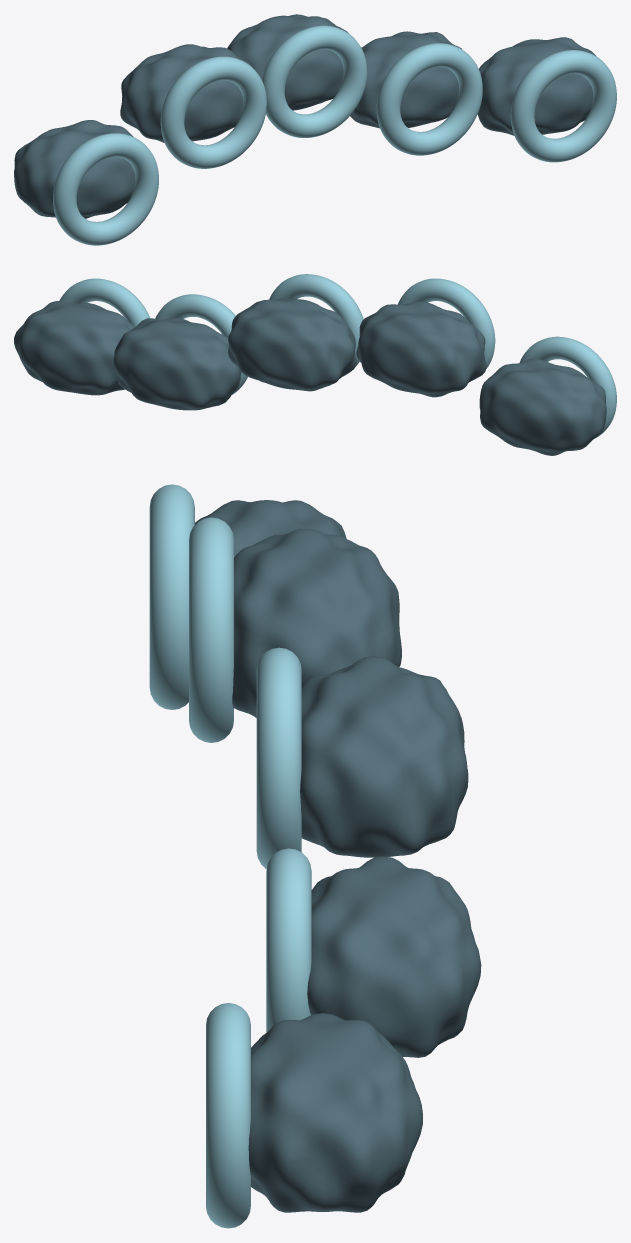
3 renders of one model, top to bottom at view 1: azimuth 30°, elevation 25°; view 2: azimuth 150°, elevation 25°; view 3: azimuth 270°, elevation 25°, orthographic. The views are drawn at different scales.
Visible parts, largest first — view 1: stepping-stone-1, stepping-stone-0, stepping-stone-4, socket-4, socket-3, socket-1, socket-0, socket-2, stepping-stone-3, stepping-stone-2; view 2: stepping-stone-1, stepping-stone-0, stepping-stone-2, stepping-stone-3, stepping-stone-4, socket-0, socket-1, socket-2, socket-4, socket-3; view 3: stepping-stone-4, stepping-stone-2, stepping-stone-3, stepping-stone-1, socket-1, socket-4, socket-2, socket-0, socket-3, stepping-stone-0.
Boxes of the visible parts, x1,y1,x2,y2 form: stepping-stone-1: [120, 44, 252, 142]; stepping-stone-0: [14, 120, 135, 218]; stepping-stone-4: [477, 37, 596, 135]; socket-4: [510, 50, 616, 162]; socket-3: [376, 43, 482, 155]; socket-1: [160, 56, 266, 168]; socket-0: [53, 133, 158, 245]; socket-2: [262, 25, 367, 137]; stepping-stone-3: [350, 31, 461, 128]; stepping-stone-2: [227, 14, 348, 110]; stepping-stone-1: [356, 301, 486, 397]; stepping-stone-0: [479, 358, 606, 455]; stepping-stone-2: [228, 298, 356, 391]; stepping-stone-3: [113, 317, 241, 410]; stepping-stone-4: [14, 301, 134, 395]; socket-0: [519, 336, 616, 438]; socket-1: [398, 278, 495, 380]; socket-2: [269, 274, 363, 376]; socket-4: [59, 278, 150, 326]; socket-3: [155, 294, 247, 394]; stepping-stone-4: [248, 1013, 422, 1212]; stepping-stone-2: [300, 656, 468, 857]; stepping-stone-3: [307, 856, 481, 1057]; stepping-stone-1: [232, 528, 401, 717]; socket-1: [189, 517, 233, 742]; socket-4: [206, 1003, 250, 1228]; socket-2: [256, 647, 301, 868]; socket-0: [149, 484, 194, 709]; socket-3: [266, 848, 311, 1032]; stepping-stone-0: [195, 500, 346, 557].
Size of the model in its own units: 3.17 by 0.9742 by 0.8081.
